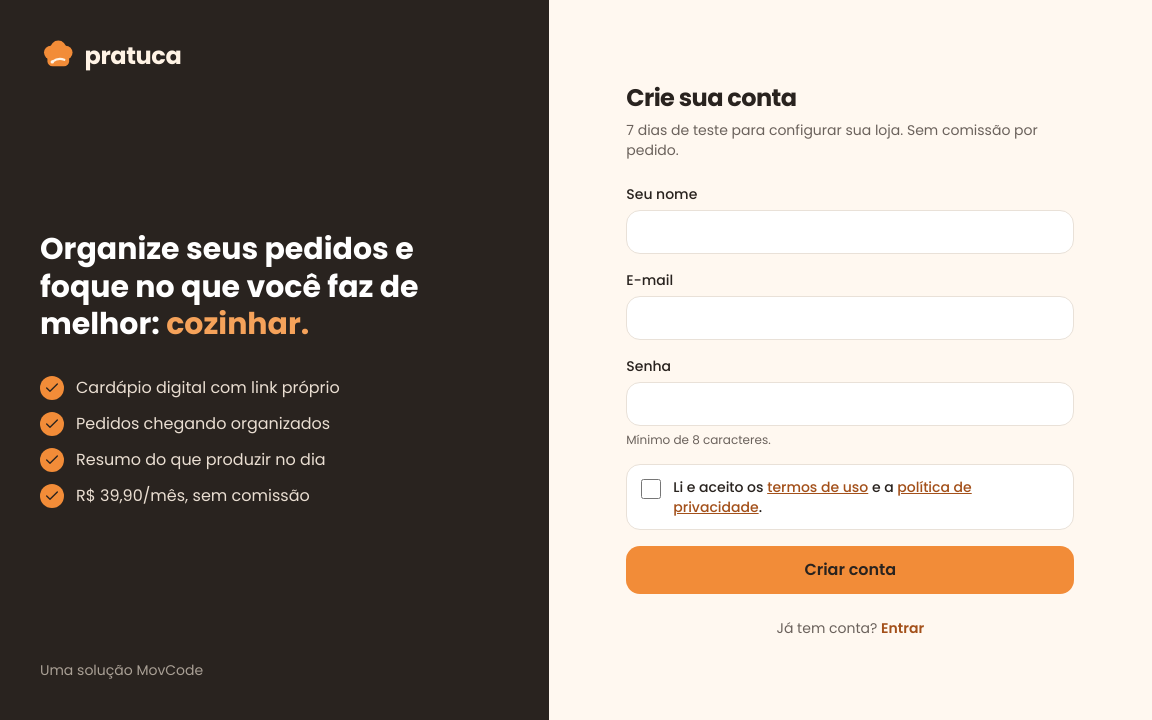
Test case: cadastro › exige aceite dos termos e senha com 8 caracteres
Type "Ana" into the field labelled "Seu nome" at (850, 232), box [626, 210, 1074, 254]
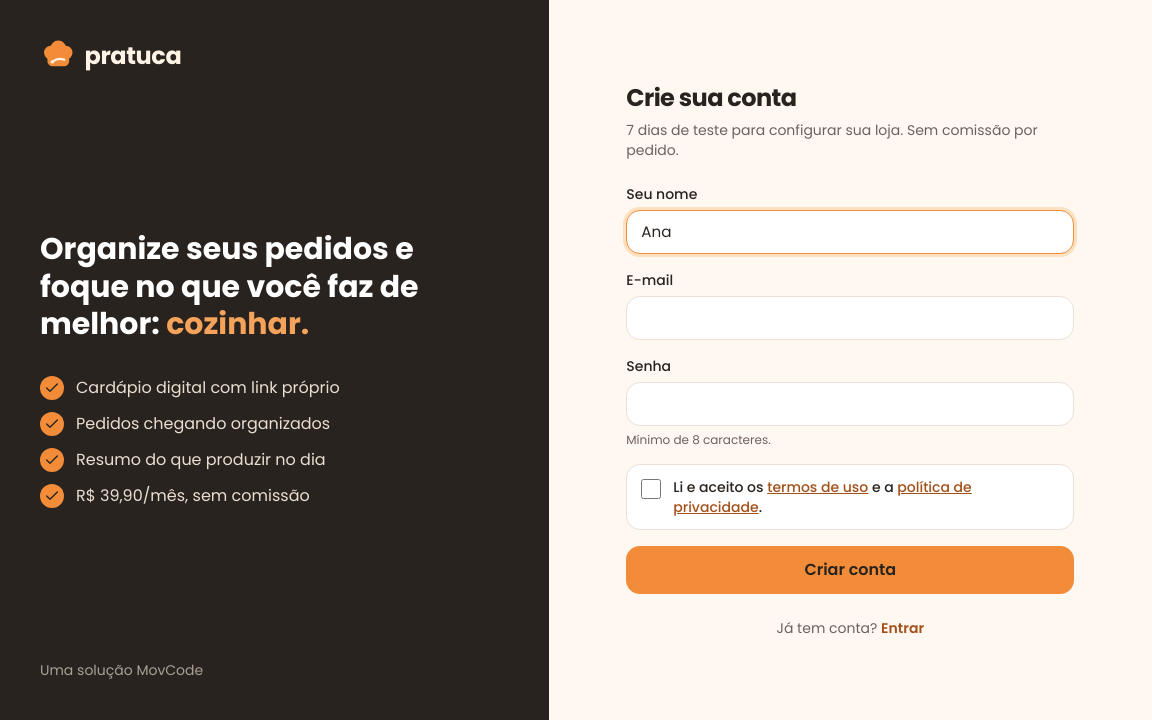
Type "ana@exemplo.com" into the field labelled "E-mail" at (850, 318), box [626, 296, 1074, 340]
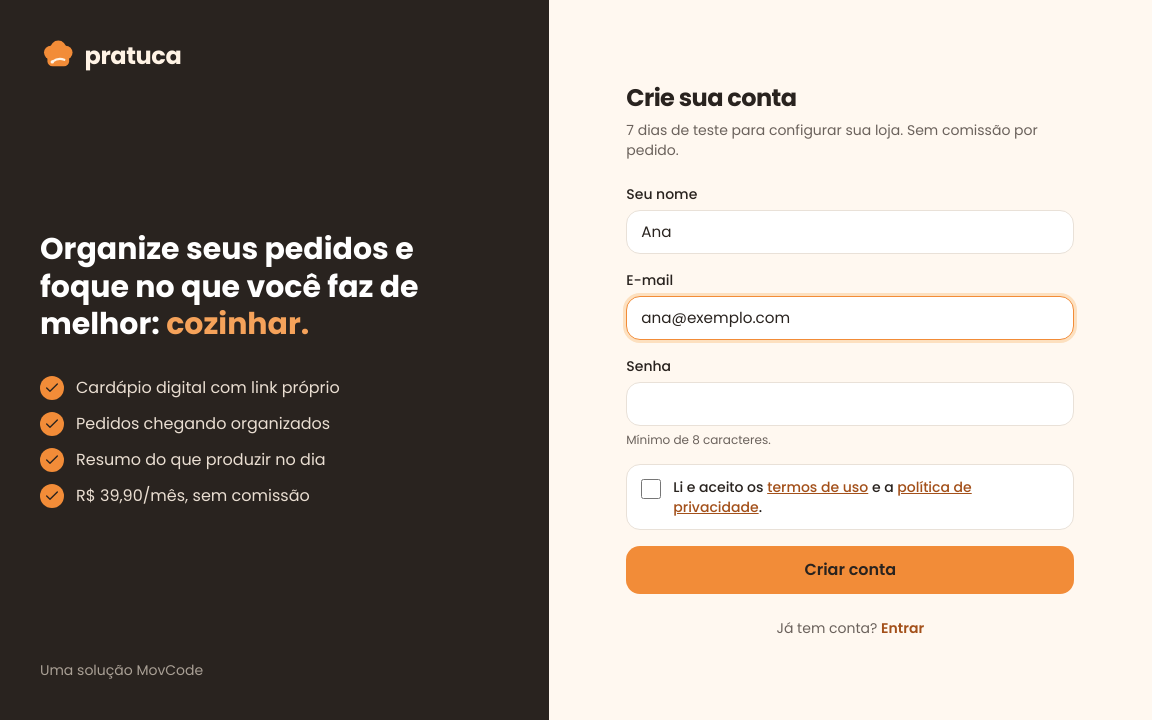
Type "123" into the password field labelled "Senha" at (850, 404), box [626, 382, 1074, 426]
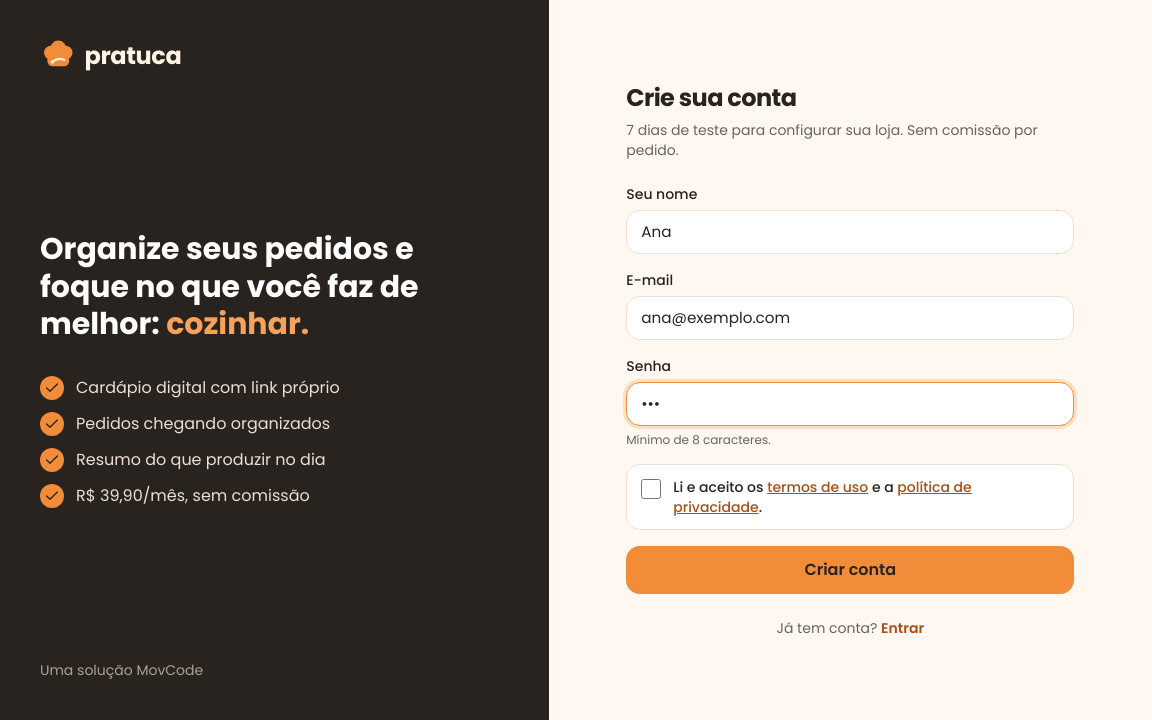
Click the button "Criar conta" at (850, 570), box [626, 546, 1074, 594]
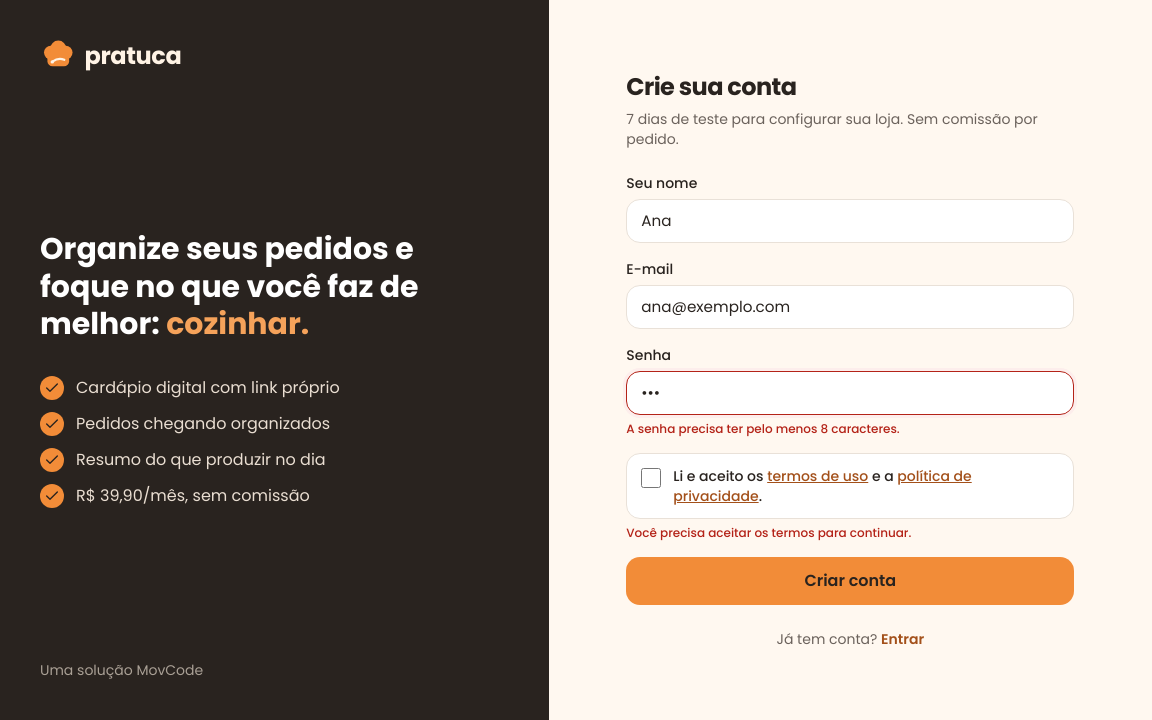
Check: the text "A senha precisa ter pelo menos 8 caracteres." is shown, box [626, 420, 900, 437]
Check: the text "Você precisa aceitar os termos para continuar." is shown, box [626, 524, 911, 541]
